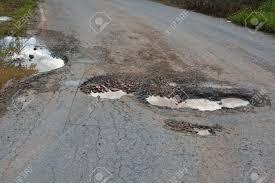pothole: (143, 75, 271, 114), (1, 23, 71, 89), (90, 71, 134, 116), (161, 115, 222, 142)
